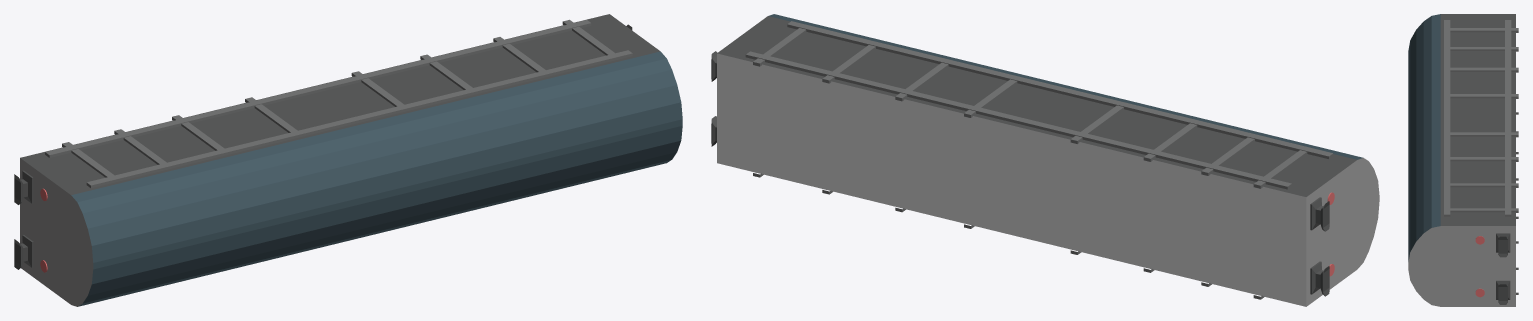
The model's file is wagon_freight.glb.
3 views of the same model, side by side, from view 1: azimuth 30°, elevation 25°; view 2: azimuth 150°, elevation 25°; view 3: azimuth 270°, elevation 25° (orthographic). The views are drawn at different scales.
Parts seen in each view (by area): view 1: Cube, côtés fret, Cylinder.001; view 2: Cube, côtés fret, Cylinder.001; view 3: Cube, côtés fret, Cylinder.001.
Boxes of the visible parts, x1=… form: Cube: x1=20, y1=14, x2=682, y2=306; côtés fret: x1=45, y1=19, x2=632, y2=188; Cylinder.001: x1=14, y1=24, x2=632, y2=272; Cube: x1=717, y1=14, x2=1379, y2=306; côtés fret: x1=745, y1=21, x2=1333, y2=299; Cylinder.001: x1=711, y1=51, x2=1334, y2=296; Cube: x1=1408, y1=14, x2=1515, y2=306; côtés fret: x1=1444, y1=20, x2=1518, y2=294; Cylinder.001: x1=1475, y1=233, x2=1510, y2=304.
Bounding box in the file's own units: 16.79 × 3.01 × 3.56.
3 materials, 3 textured.
